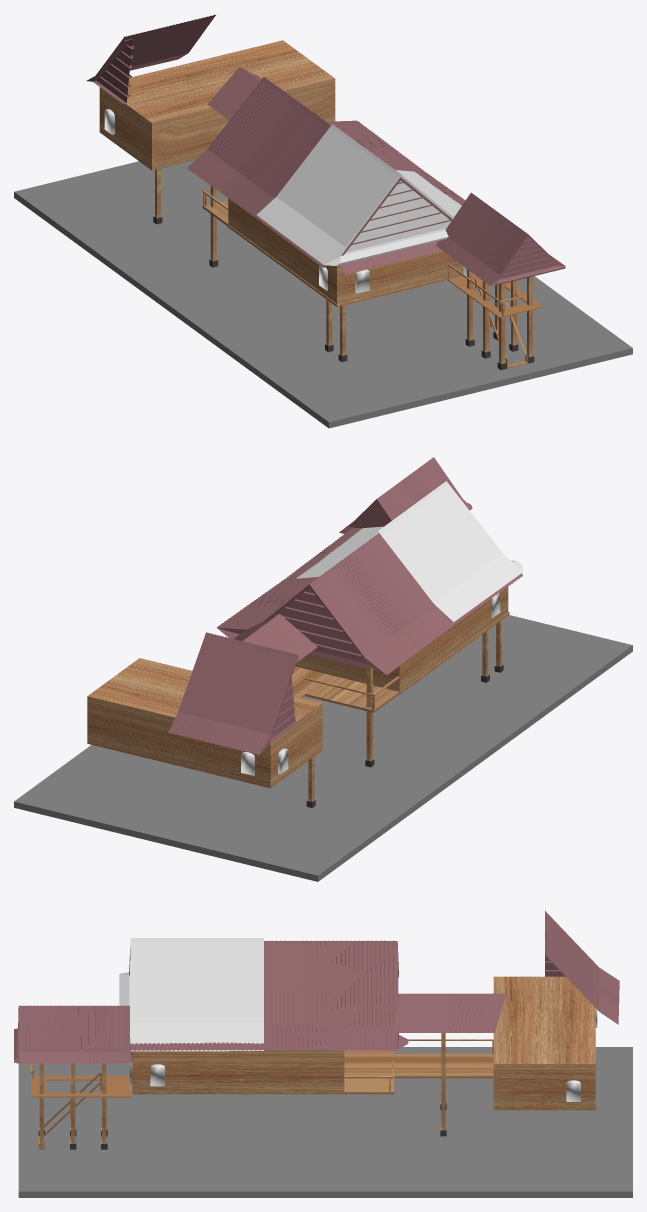
File: blend_rumah_adat_mandar.glb
The picture shows the model from 3 angles, top to bottom: view 1: azimuth 30°, elevation 25°; view 2: azimuth 150°, elevation 25°; view 3: azimuth 270°, elevation 25°; orthographic projection. The views are drawn at different scales.
Parts seen in each view (by area): view 1: Plane, Cube.015, Cube.002, Cube.001, Cube, Cube.010, Cube.012, Cube.006, Cube.030, Cube.007; view 2: Plane, Cube.002, Cube.001, Cube.015, Cube.012, Cube, Cube.010, Cube.030, Cube.017; view 3: Plane, Cube.002, Cube.015, Cube, Cube.001, Cube.010, Cube.030, Cube.012, Cube.007, Cube.006, Cube.019.
Part boxes in pixels (bbox=[...]): Plane: bbox=[14, 160, 632, 428]; Cube.015: bbox=[257, 124, 461, 265]; Cube.002: bbox=[187, 77, 465, 274]; Cube.001: bbox=[99, 40, 335, 170]; Cube: bbox=[202, 198, 463, 306]; Cube.010: bbox=[436, 192, 565, 285]; Cube.012: bbox=[86, 14, 215, 103]; Cube.006: bbox=[465, 269, 534, 370]; Cube.030: bbox=[207, 67, 325, 121]; Cube.007: bbox=[447, 274, 543, 317]; Plane: bbox=[14, 615, 632, 881]; Cube.002: bbox=[217, 527, 522, 674]; Cube.001: bbox=[87, 658, 322, 788]; Cube.015: bbox=[296, 481, 523, 621]; Cube.012: bbox=[168, 632, 298, 754]; Cube: bbox=[291, 587, 509, 712]; Cube.010: bbox=[339, 457, 472, 533]; Cube.030: bbox=[234, 614, 317, 662]; Cube.017: bbox=[365, 665, 374, 767]; Plane: bbox=[18, 1047, 632, 1197]; Cube.002: bbox=[129, 940, 408, 1050]; Cube.015: bbox=[119, 938, 263, 1051]; Cube: bbox=[132, 1050, 493, 1094]; Cube.001: bbox=[493, 976, 595, 1110]; Cube.010: bbox=[14, 1005, 132, 1063]; Cube.030: bbox=[394, 993, 506, 1032]; Cube.012: bbox=[545, 911, 619, 1024]; Cube.007: bbox=[31, 1075, 132, 1097]; Cube.006: bbox=[38, 1063, 107, 1149]; Cube.019: bbox=[440, 1033, 446, 1136].
Size of the model in its own units: 3.92 by 2.23 by 7.08.
5 materials, 2 textured.
